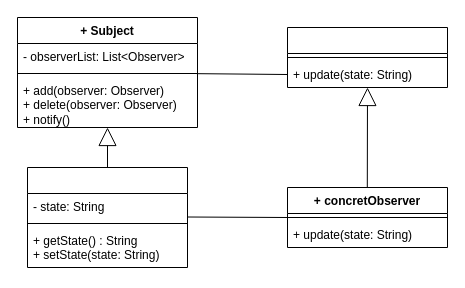
Some shapes in this 465 by 288 pixel diagram are drawn without their labels. The box of each missing label's shape, as (x1, y1, x2, y2) in pixels:
+ concretSubject: (26, 166, 188, 268)
+ Observer: (286, 26, 448, 88)
